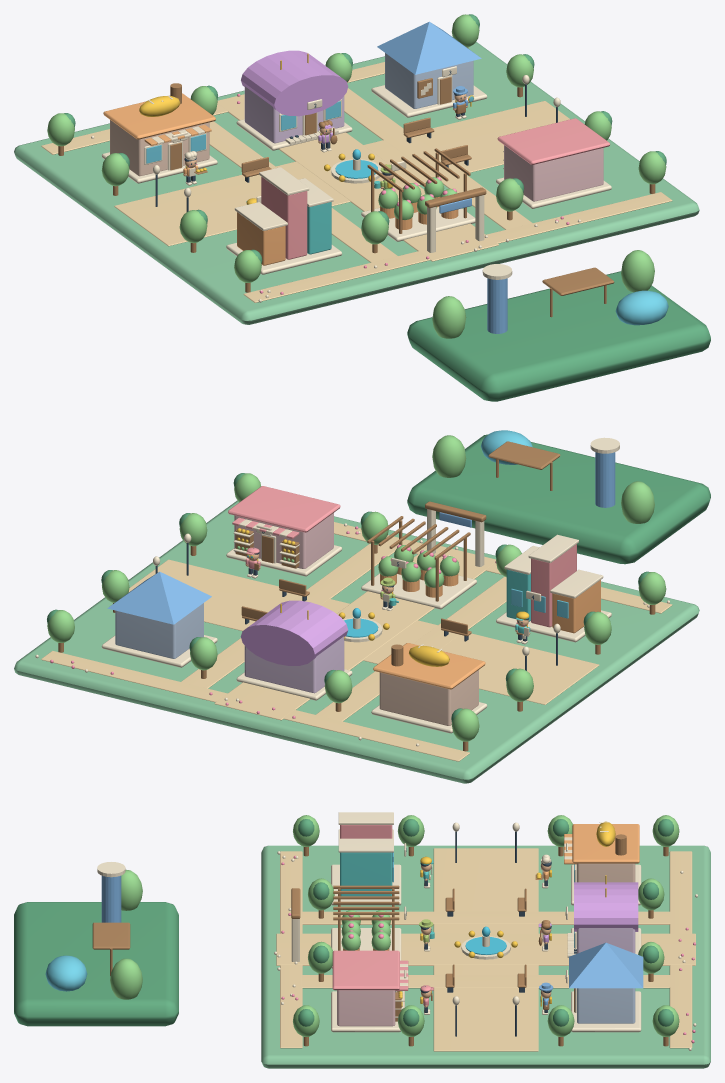
The model's file is thinking-town.glb.
The picture shows the model from 3 angles, top to bottom: view 1: azimuth 30°, elevation 25°; view 2: azimuth 150°, elevation 25°; view 3: azimuth 270°, elevation 25°; orthographic projection. The views are drawn at different scales.
Visible parts, largest first — view 1: 草坪岛屿, Landscape_沙色步道, 远方山谷, Landscape_树冠嫩绿, 圆拱屋顶, 职业店铺墙.003, 宽屋檐.001, 入口职业徽牌.003, 侦探阁楼尖顶, 宽屋檐, 职业店铺墙.002, 错落积木塔.001 (+21 smaller); view 2: 草坪岛屿, Landscape_沙色步道, 远方山谷, Landscape_树冠嫩绿, 圆拱屋顶, 职业店铺墙, 宽屋檐.001, 职业店铺墙.002, 侦探阁楼尖顶, 入口职业徽牌.003, 职业店铺墙.001, 宽屋檐 (+23 smaller); view 3: Landscape_沙色步道, 草坪岛屿, 远方山谷, Landscape_树冠嫩绿, 圆拱屋顶, 侦探阁楼尖顶, 宽屋檐.001, Landscape_树冠深绿, 入口职业徽牌.003, 宽屋檐, 职业店铺墙.003, 职业店铺墙.002 (+19 smaller).
Part boxes in pixels (<box>): 草坪岛屿: <box>14,41,699,324</box>; Landscape_沙色步道: <box>41,62,672,302</box>; 远方山谷: <box>407,271,710,401</box>; Landscape_树冠嫩绿: <box>47,14,666,282</box>; 圆拱屋顶: <box>241,50,348,116</box>; 职业店铺墙.003: <box>504,145,603,201</box>; 宽屋檐.001: <box>497,118,610,164</box>; 入口职业徽牌.003: <box>226,167,342,274</box>; 侦探阁楼尖顶: <box>377,21,481,74</box>; 宽屋檐: <box>103,93,215,145</box>; 职业店铺墙.002: <box>385,53,473,108</box>; 错落积木塔.001: <box>261,177,307,259</box>; 草坪岛屿: <box>14,500,699,783</box>; Landscape_沙色步道: <box>41,522,672,761</box>; 远方山谷: <box>407,434,710,564</box>; Landscape_树冠嫩绿: <box>47,473,666,741</box>; 圆拱屋顶: <box>240,600,348,665</box>; 职业店铺墙: <box>379,670,478,725</box>; 宽屋檐.001: <box>228,486,340,538</box>; 职业店铺墙.002: <box>115,603,203,658</box>; 侦探阁楼尖顶: <box>107,571,211,624</box>; 入口职业徽牌.003: <box>496,534,611,642</box>; 职业店铺墙.001: <box>244,636,344,693</box>; 宽屋檐: <box>373,643,485,689</box>; Landscape_沙色步道: <box>276,848,695,1051</box>; 草坪岛屿: <box>261,845,710,1068</box>; 远方山谷: <box>14,902,178,1026</box>; Landscape_树冠嫩绿: <box>293,815,679,1036</box>; 圆拱屋顶: <box>574,882,638,931</box>; 侦探阁楼尖顶: <box>569,942,643,988</box>; 宽屋檐.001: <box>332,950,408,990</box>; Landscape_树冠深绿: <box>298,819,673,1026</box>; 入口职业徽牌.003: <box>331,812,406,905</box>; 宽屋檐: <box>564,824,639,864</box>; 职业店铺墙.003: <box>337,990,395,1026</box>; 职业店铺墙.002: <box>577,988,635,1023</box>.
Bounding box in the file's own units: 34 × 7.25 × 46.5.
